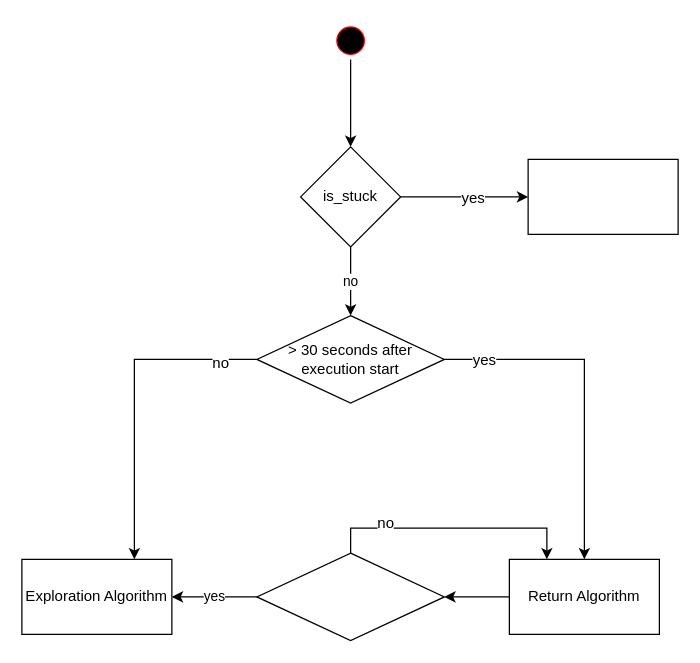
This 700x663 diagram has some shape labels left out. Each missing label, with the centre of its shape:
attempt to drive into a wall: [350,596]
Reactive Collision Avoidance: [602,196]
